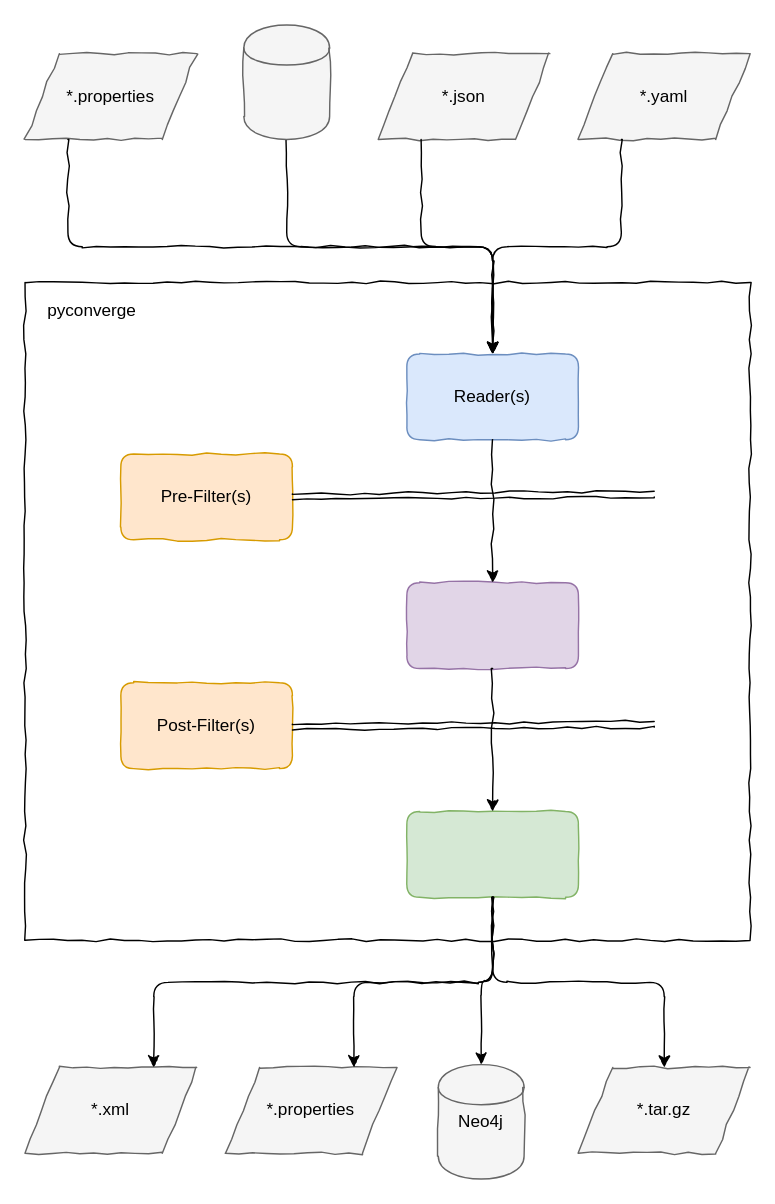
Some shapes in this 775 by 1204 pixel diagram are drawn without their labels. The shapes that lost their labels are listed below. From the top down, each one's box as (x1, y1, x2, y2) in pixels, then its label:
(242, 24, 330, 139): MySQL
(405, 581, 578, 669): Resolver(s)
(405, 810, 578, 897): Writer(s)
